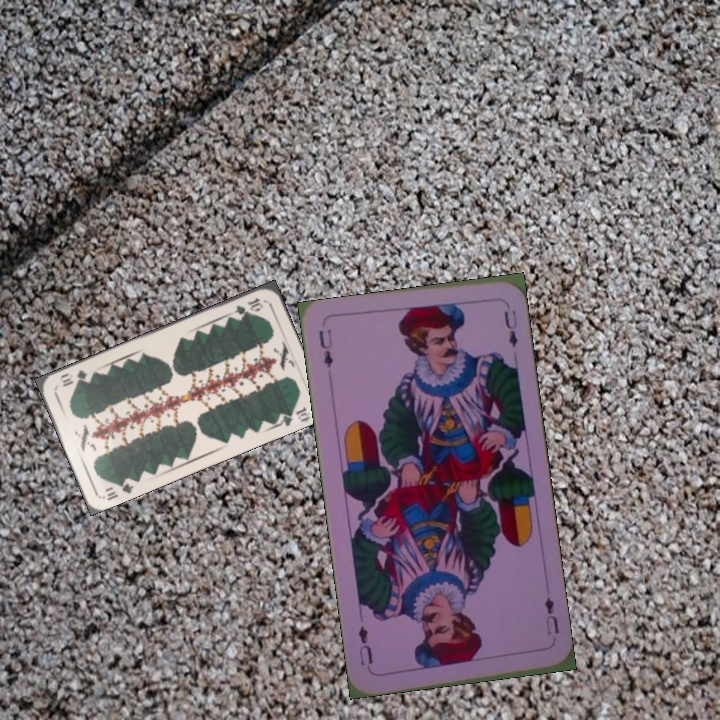EU: (314, 325, 335, 371), (541, 593, 562, 637)
G10: (99, 474, 136, 503), (227, 293, 266, 317)
